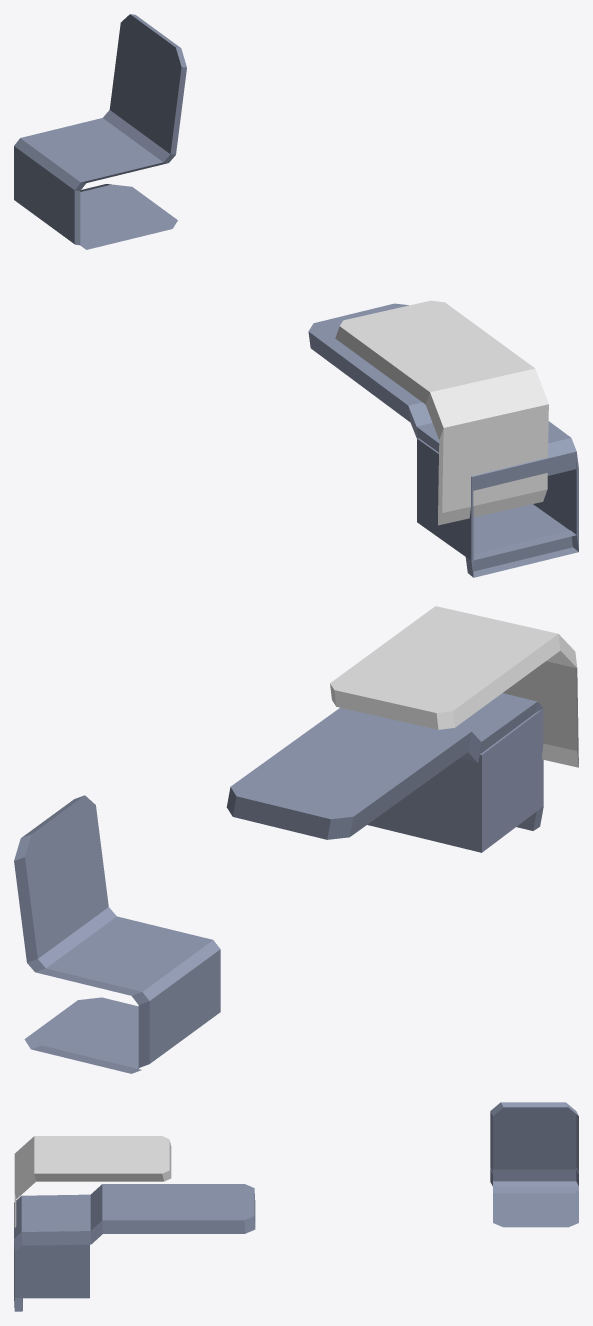
File: Modern Disk.fbx
3 views of the same model, one above another, from view 1: azimuth 30°, elevation 25°; view 2: azimuth 150°, elevation 25°; view 3: azimuth 270°, elevation 25° (orthographic). The views are drawn at different scales.
Visible parts, largest first — view 1: Plane, Plane.002, Plane.001; view 2: Plane.001, Plane.002, Plane; view 3: Plane.001, Plane.002, Plane.
Boxes of the visible parts, left/top/right/bottom form: Plane: left=335, top=300, right=548, bottom=525; Plane.002: left=14, top=14, right=186, bottom=249; Plane.001: left=308, top=303, right=578, bottom=577; Plane.001: left=226, top=693, right=543, bottom=852; Plane.002: left=14, top=795, right=220, bottom=1073; Plane: left=330, top=606, right=578, bottom=767; Plane.001: left=14, top=1184, right=255, bottom=1311; Plane.002: left=490, top=1102, right=578, bottom=1227; Plane: left=14, top=1136, right=171, bottom=1227.
Size of the model in its own units: 319 by 485 by 1314.
